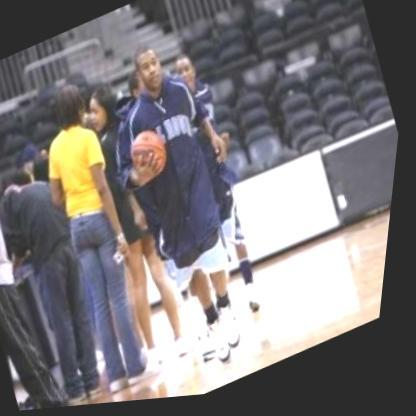basketball: (120, 121, 185, 193)
